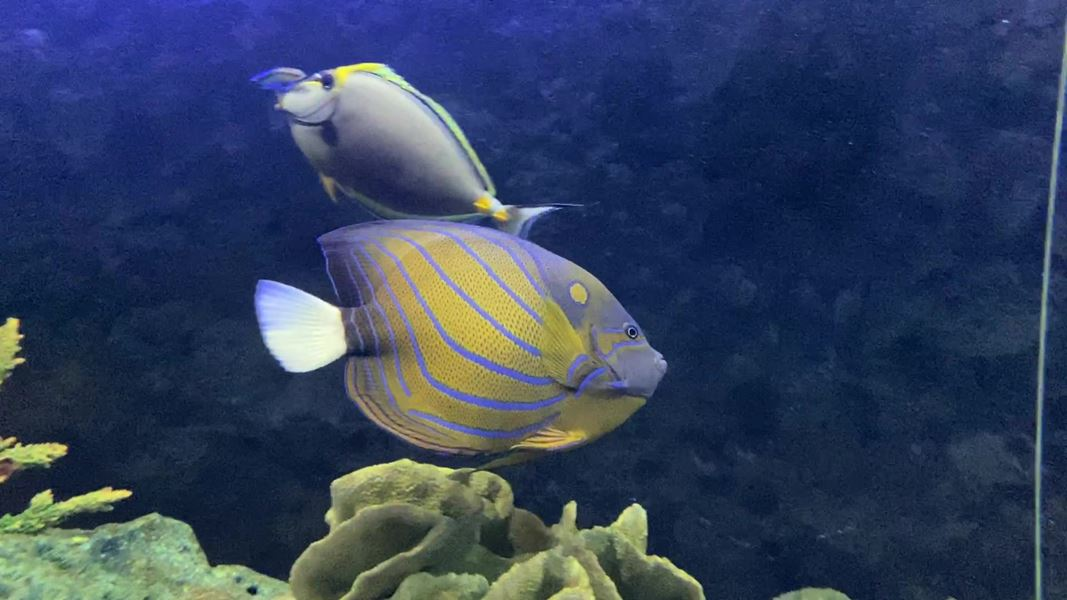Blue ring angelfish: (250, 208, 676, 492)
